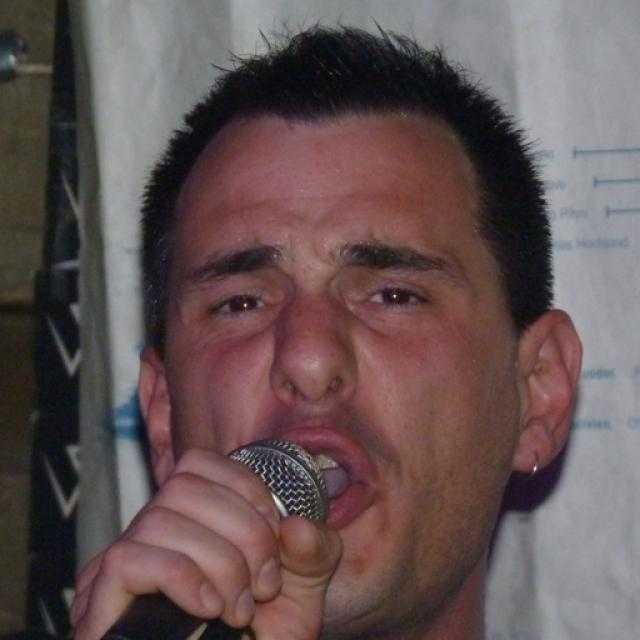Acne: (330, 159, 345, 176)
Wrinkle: (225, 187, 402, 219)
